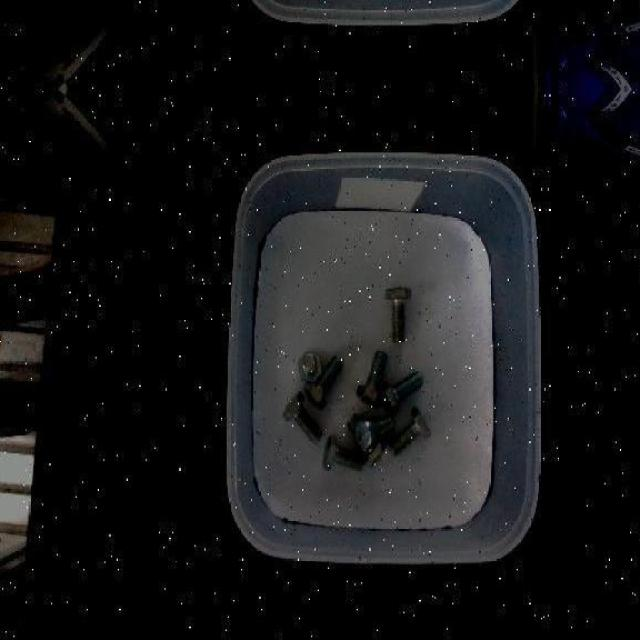screw: (282, 389, 324, 444), (304, 354, 344, 410), (390, 406, 431, 456), (380, 369, 424, 413), (358, 349, 388, 407), (322, 434, 364, 471), (354, 414, 394, 452), (383, 286, 410, 342), (298, 350, 322, 383)
